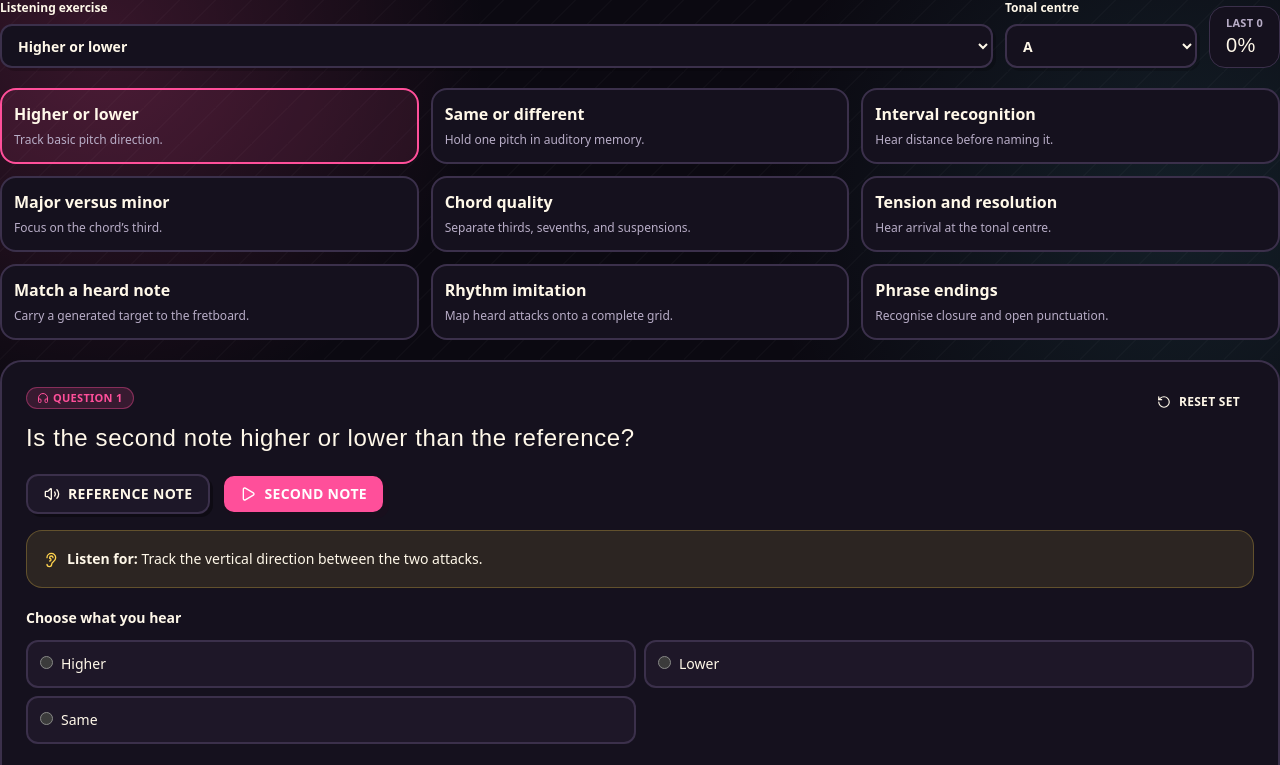
it: EarTrainingLab › switches between all ear-training categories
The image size is (1280, 765).
Select "Rhythm imitation" in the dropdown labelled "Listening exercise": (496, 46) [0,24,993,68]
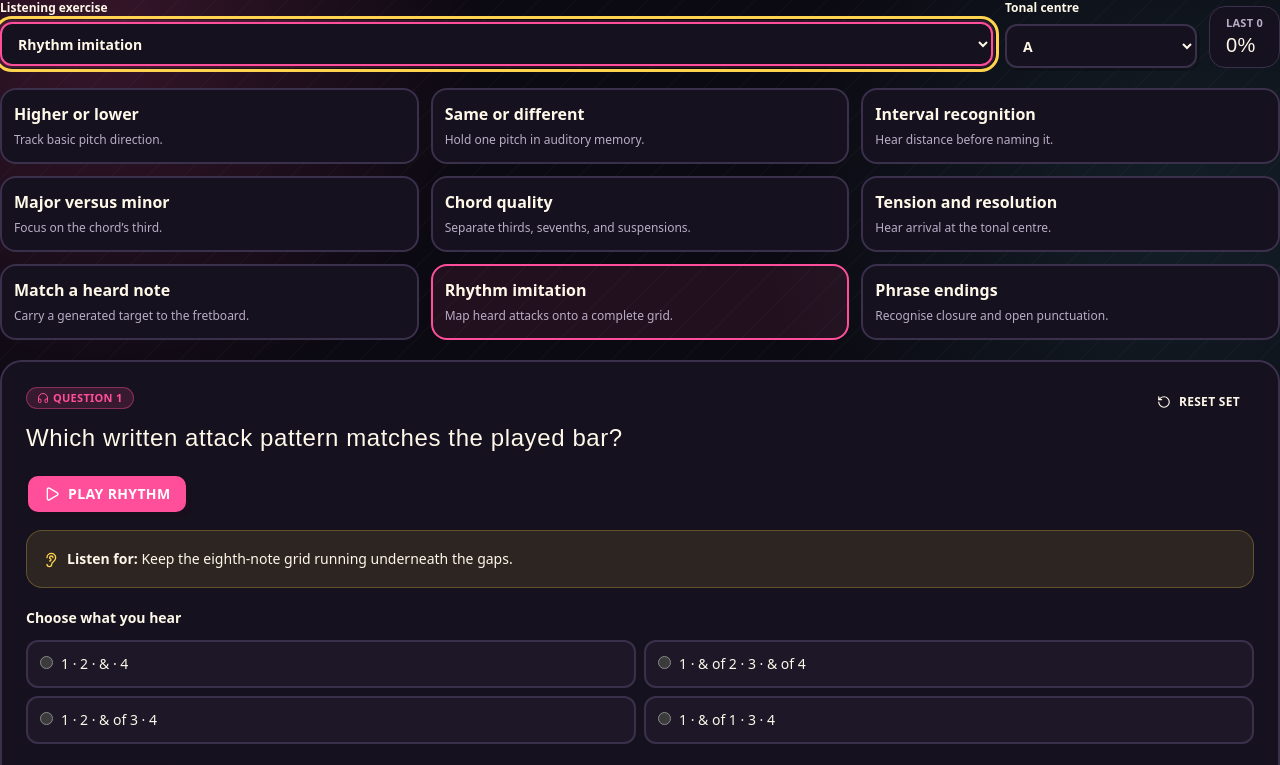
Check: the heading "Which written attack pattern matches the played bar?" is shown, box [26,422,623,454]
Check: the button "Play rhythm" is shown, box [26,474,188,514]
